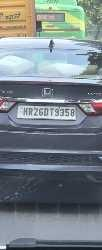License plate: (18, 104, 77, 120)
